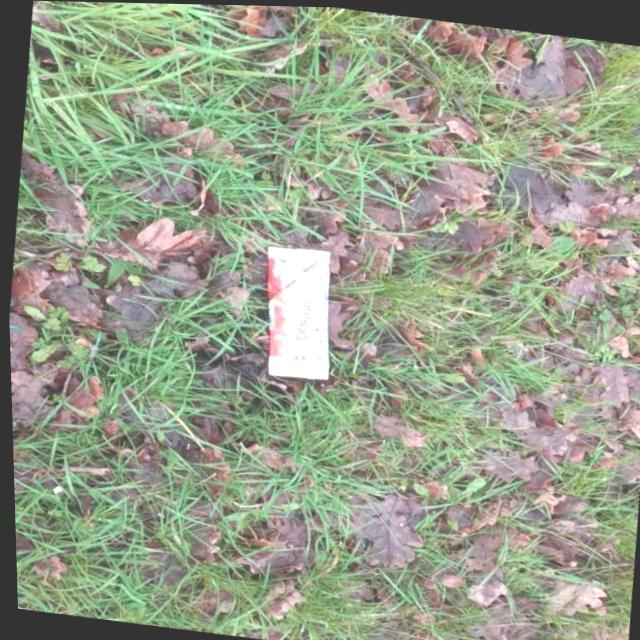Plastic: (253, 238, 343, 381)
